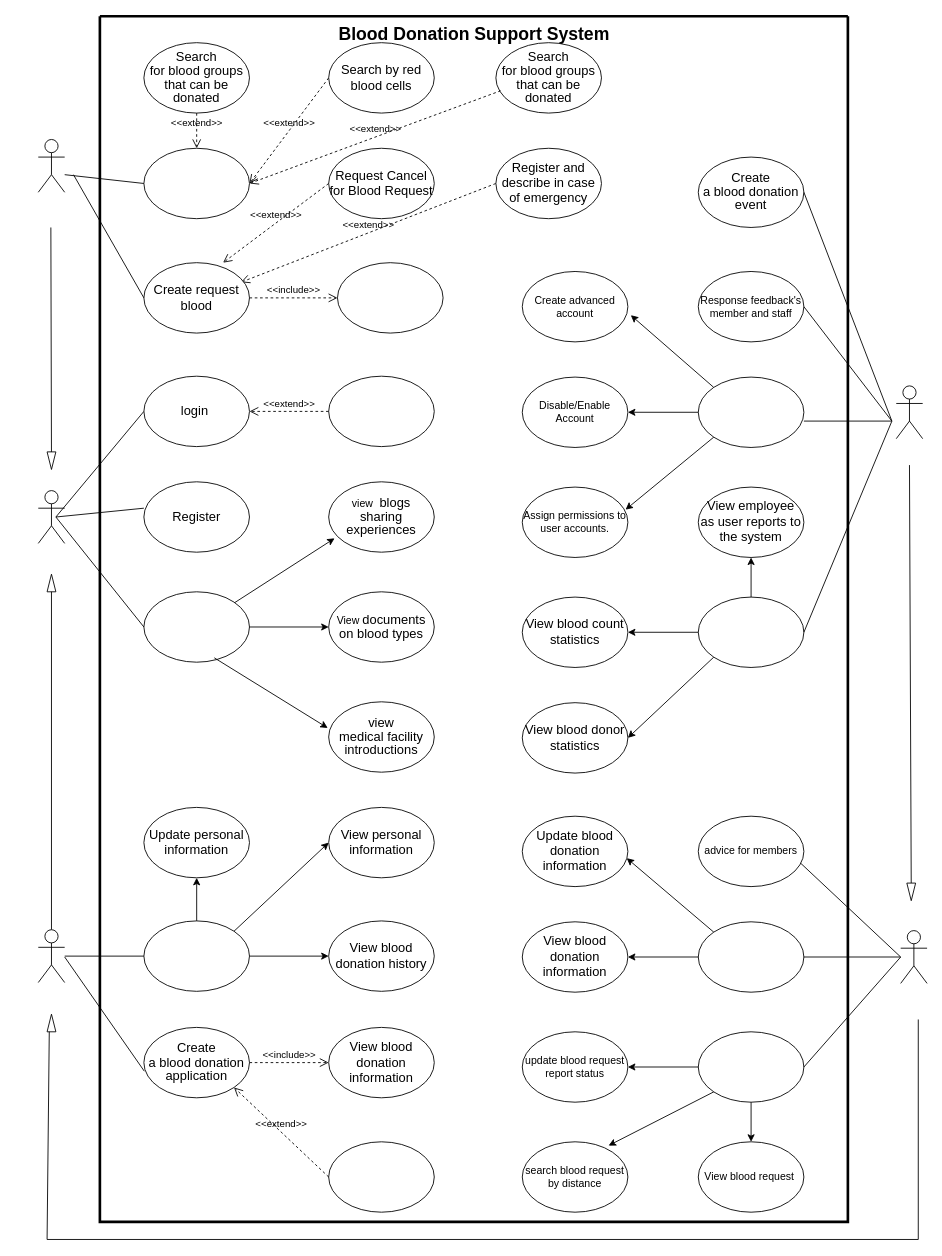
The diagram is 942 pixels wide and 1256 high, and some of its shapes have lost their labels. Each missing label, with the centre of its shape:
"A dmin" belongs at [909,412].
"Blood donation application management" belongs at [750,956].
"Blood request management" belongs at [750,1066].
"feedback on blood donation" belongs at [381,1176].
"Guest" belongs at [51,516].
"Login by OTP code" belongs at [381,411].
"Medical Facility" belongs at [51,165].
"Member" belongs at [51,956].
"personal information management" belongs at [196,955].
"Report and statistics management" belongs at [750,631].
"Search matching information by blood type" belongs at [196,183].
"Staff" belongs at [913,956].
"User Management" belongs at [750,411].
"View infomation request blood" belongs at [390,297].
"View information on home pagev" belongs at [196,626].
